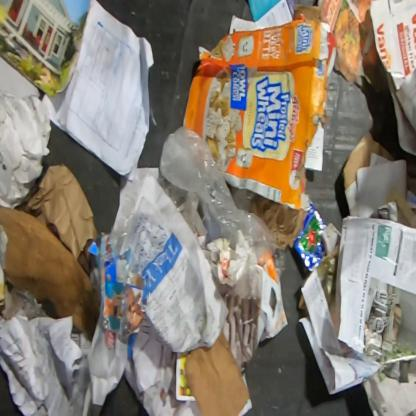cardboard: (181, 11, 337, 209), (0, 204, 101, 343), (87, 232, 147, 336), (185, 325, 249, 416), (342, 132, 396, 190)
metal: (293, 205, 328, 272)
rigid_plastic: (158, 170, 199, 233), (110, 212, 132, 254)
soft_plastic: (159, 126, 287, 282)
